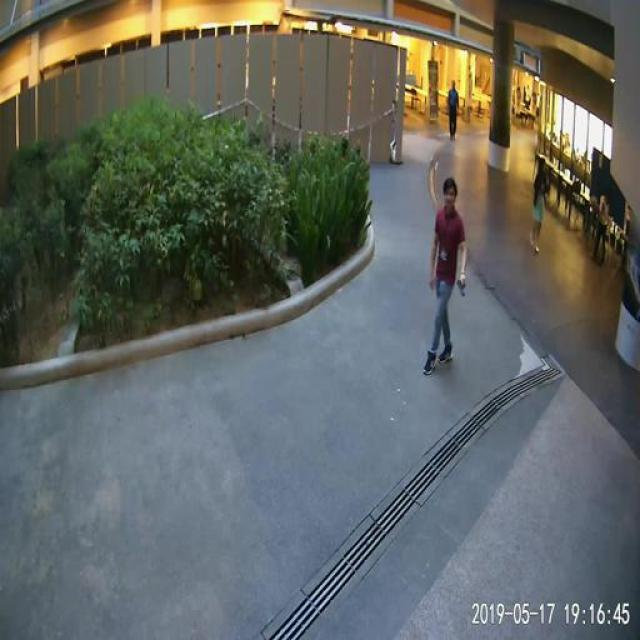Gun: (449, 267, 483, 308)
